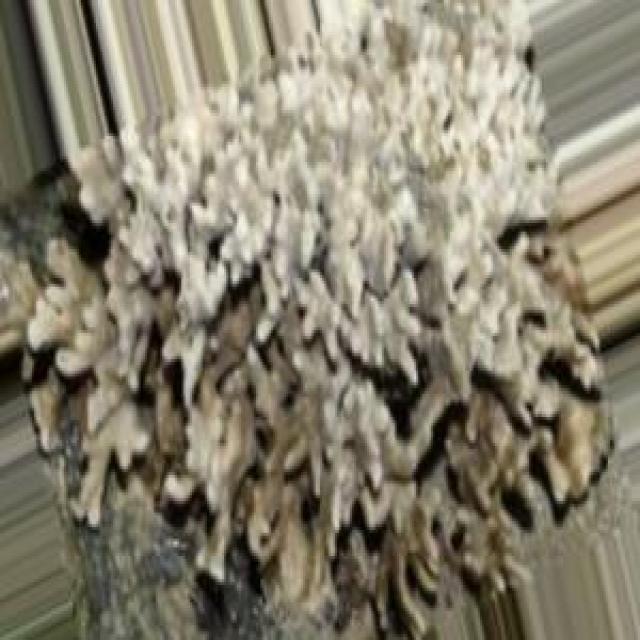Bleached: (1, 6, 611, 637)
